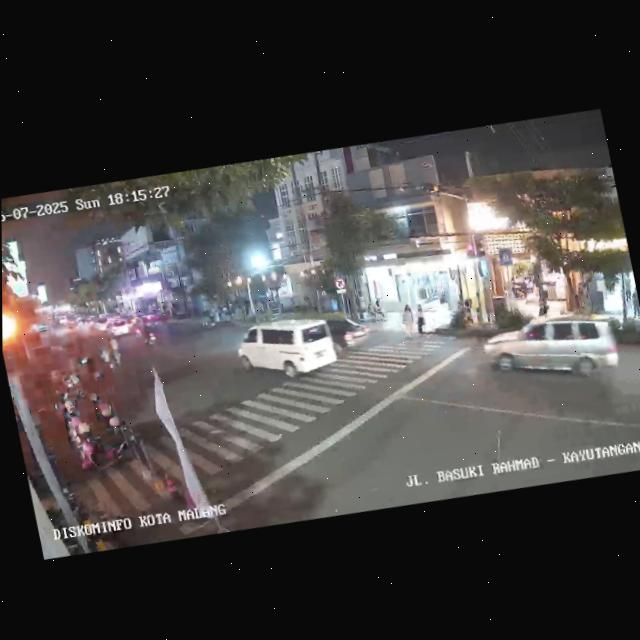car: (479, 301, 623, 401), (232, 307, 341, 394), (317, 311, 373, 358), (104, 315, 131, 341), (90, 316, 110, 333), (142, 316, 160, 332), (57, 316, 67, 326), (75, 314, 84, 323)
motorcycle: (140, 323, 158, 349), (131, 320, 142, 341)
person: (399, 301, 419, 343), (413, 303, 428, 338), (628, 287, 640, 320)
